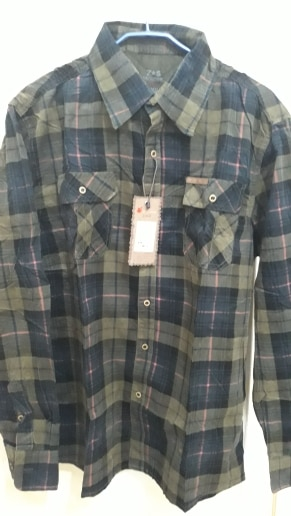shirts: (24, 30, 290, 491)
